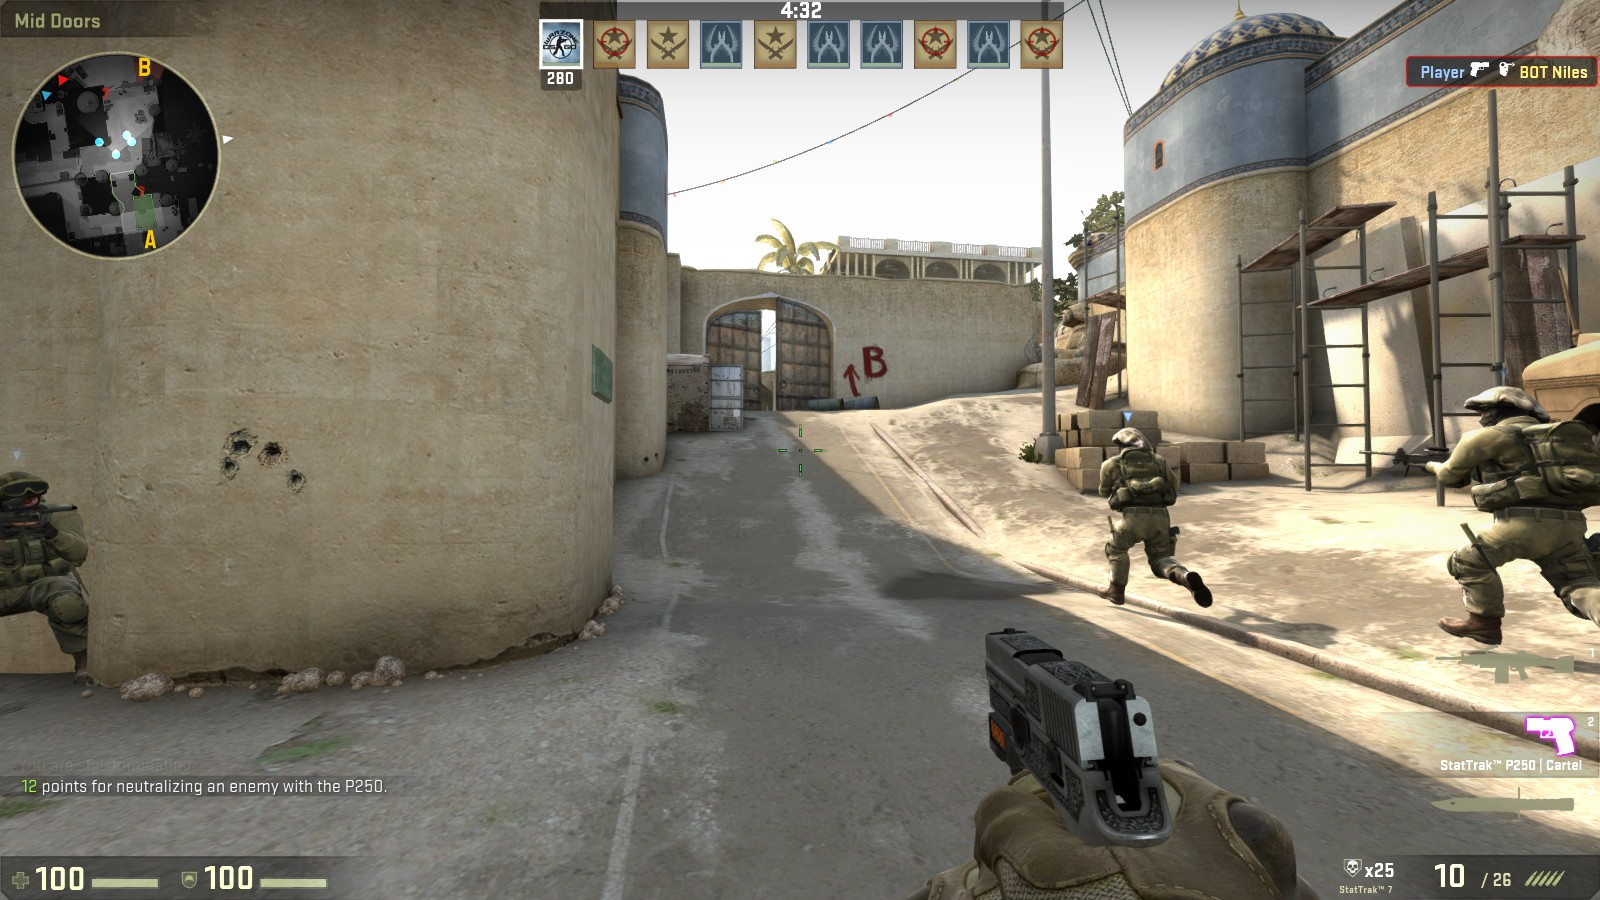c: (1427, 382, 1600, 655), (1, 466, 97, 693), (1096, 424, 1204, 609)
ch: (1462, 385, 1552, 436), (1, 473, 62, 516), (1105, 419, 1154, 462)
